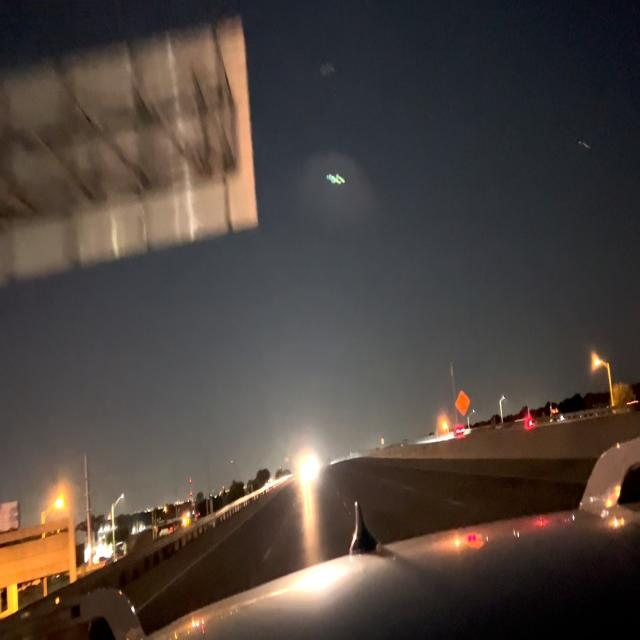back-of-sign: (5, 17, 262, 270)
